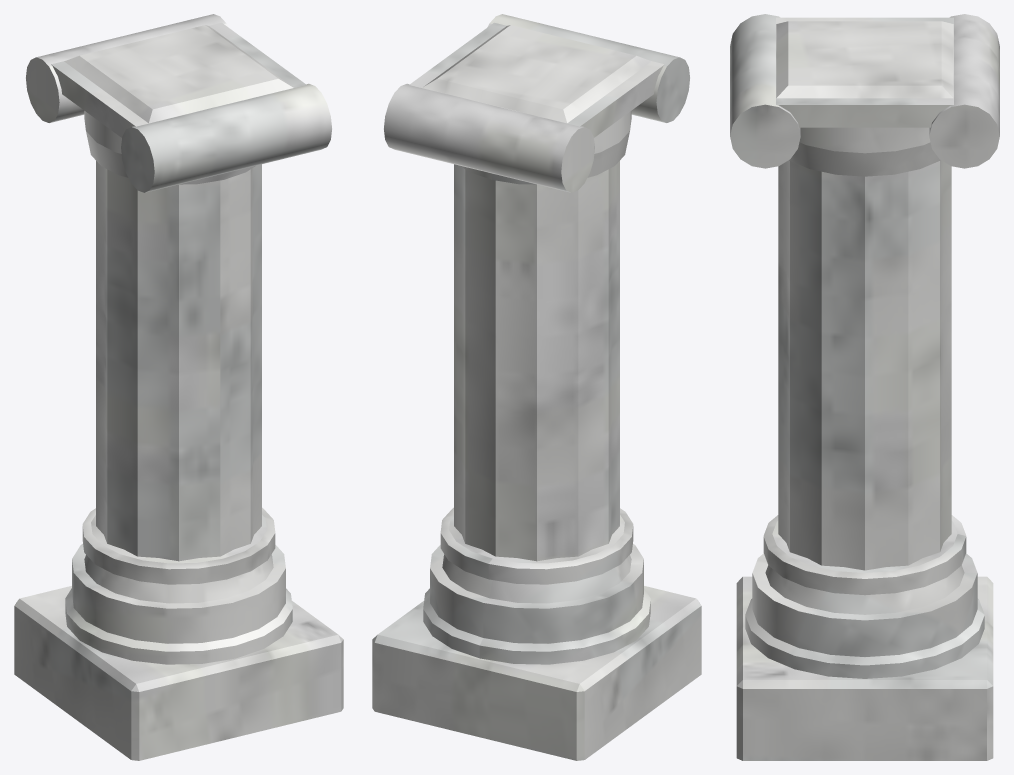
The model's file is Pedestal.fbx.
3 views of the same model, side by side, from view 1: azimuth 30°, elevation 25°; view 2: azimuth 150°, elevation 25°; view 3: azimuth 270°, elevation 25° (orthographic). The views are drawn at different scales.
Parts seen in each view (by area): view 1: Pedistal; view 2: Pedistal; view 3: Pedistal.
Boxes of the visible parts, <box> form: Pedistal: <box>14,14,343,760</box>; Pedistal: <box>372,14,701,760</box>; Pedistal: <box>730,14,999,760</box>.
Size of the model in its own units: 45.99 by 129 by 48.36.
